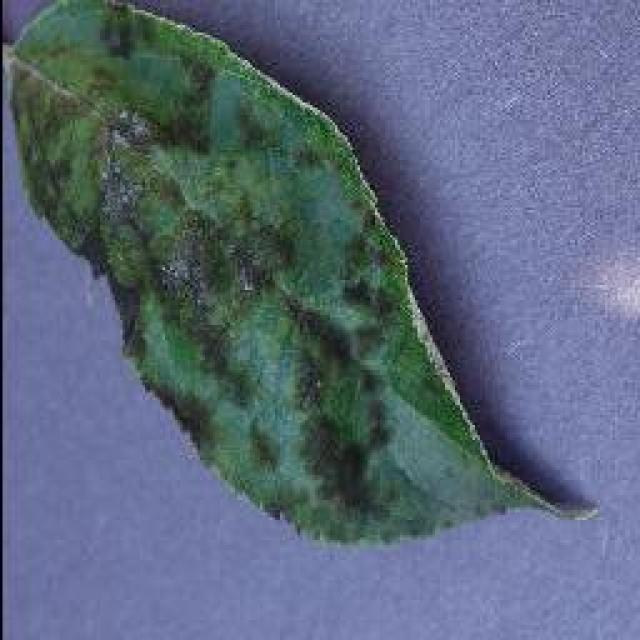apple scab disease: (2, 0, 598, 548)
